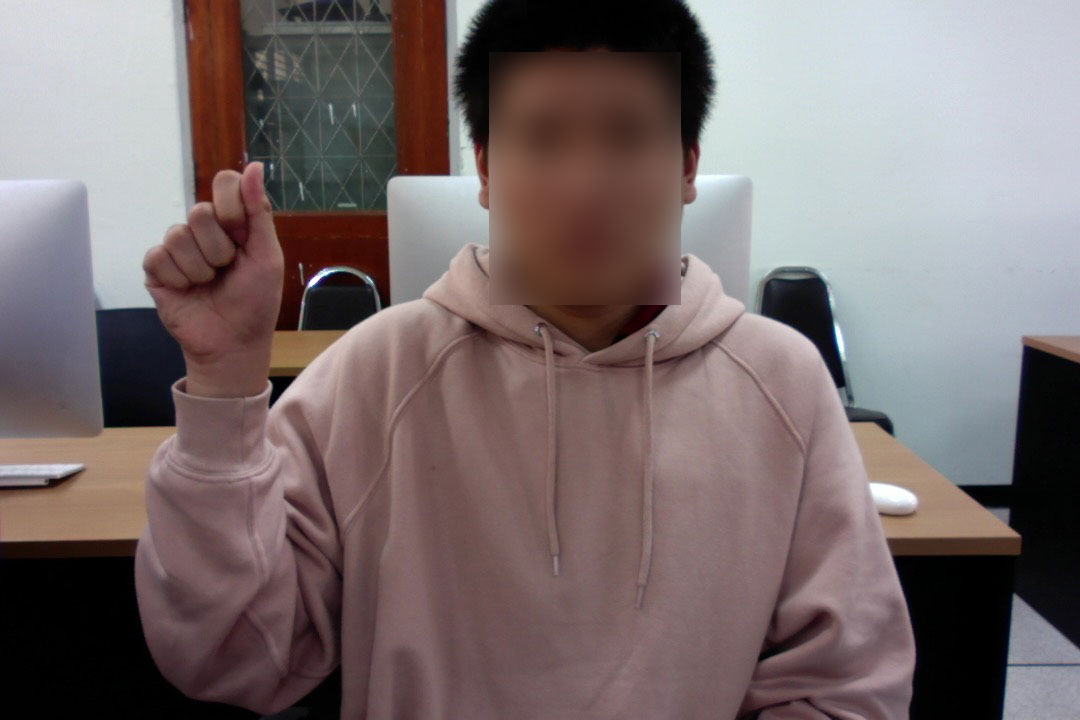or: (131, 151, 290, 368)
